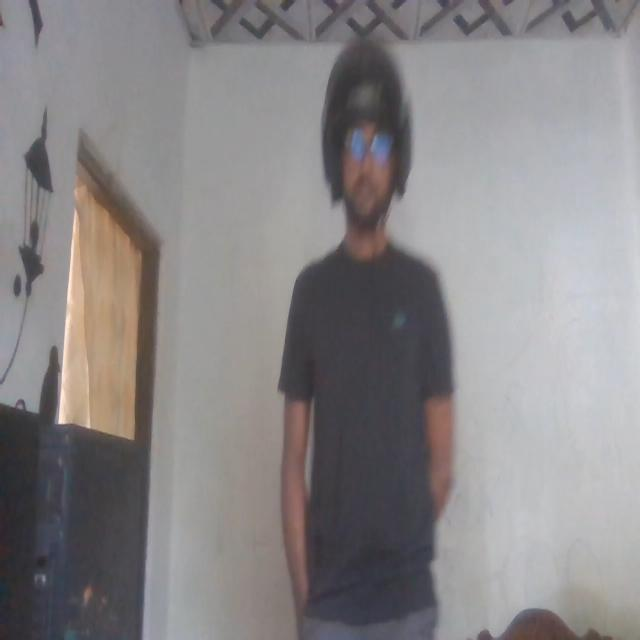Helmet_Wearer: (315, 38, 415, 276)
Person: (278, 39, 452, 640)
